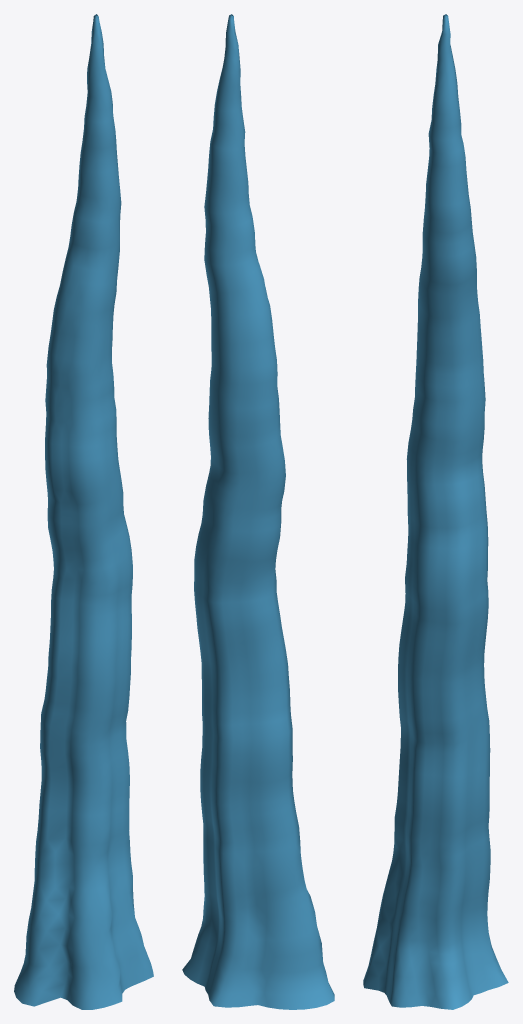
The model's file is Tree_Stem_B.FBX.
The picture shows the model from 3 angles, left to right: view 1: azimuth 30°, elevation 25°; view 2: azimuth 150°, elevation 25°; view 3: azimuth 270°, elevation 25°; orthographic projection. The views are drawn at different scales.
Parts seen in each view (by area): view 1: Object009; view 2: Object009; view 3: Object009.
Boxes of the visible parts, x1,y1,x2,y2 form: Object009: [14, 14, 153, 1009]; Object009: [182, 14, 334, 1009]; Object009: [363, 14, 508, 1009].
Bounding box in the file's own units: 137 × 941 × 126.
